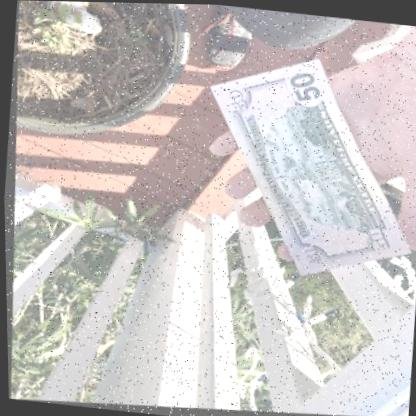dollar_back: (206, 60, 406, 277)
